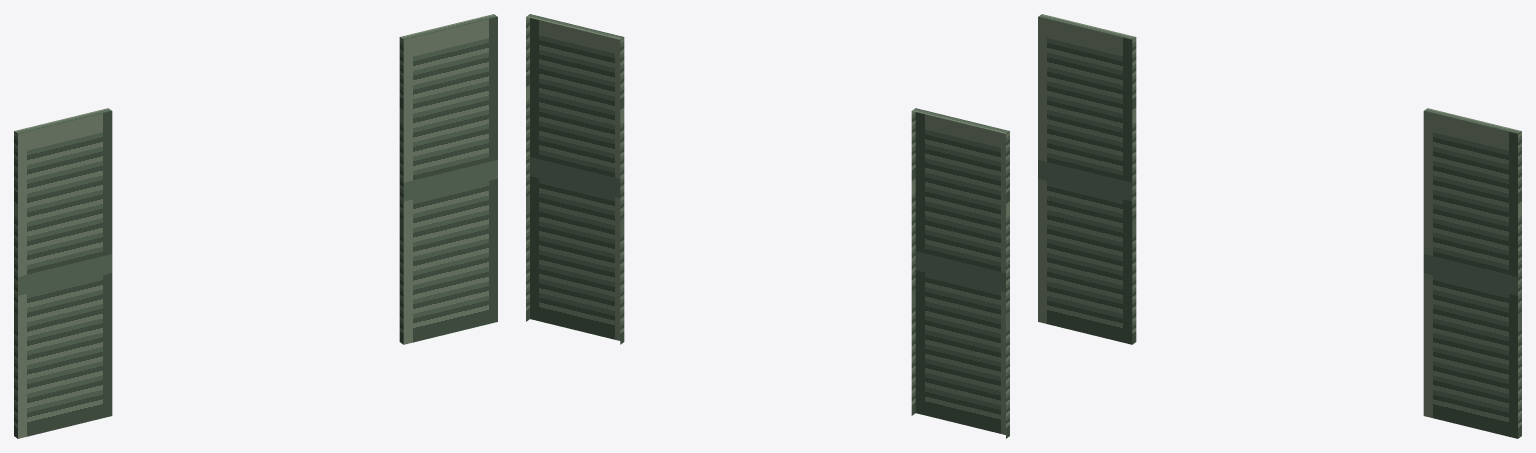
File: RES_Ext_Shutters_Pair.obj
3 views of the same model, side by side, from view 1: azimuth 30°, elevation 25°; view 2: azimuth 150°, elevation 25°; view 3: azimuth 330°, elevation 25° (orthographic).
Visible parts, largest first — view 1: RES_Ext_Shutters_Pair; view 2: RES_Ext_Shutters_Pair; view 3: RES_Ext_Shutters_Pair.
Part boxes in pixels (x1,y1,x2,y2): RES_Ext_Shutters_Pair: (14, 14, 497, 438); RES_Ext_Shutters_Pair: (526, 14, 1009, 438); RES_Ext_Shutters_Pair: (1038, 14, 1521, 438).
Bounding box in the file's own units: 2.14 × 1.3 × 0.03.
Materials: 1 (1 with a texture image).
